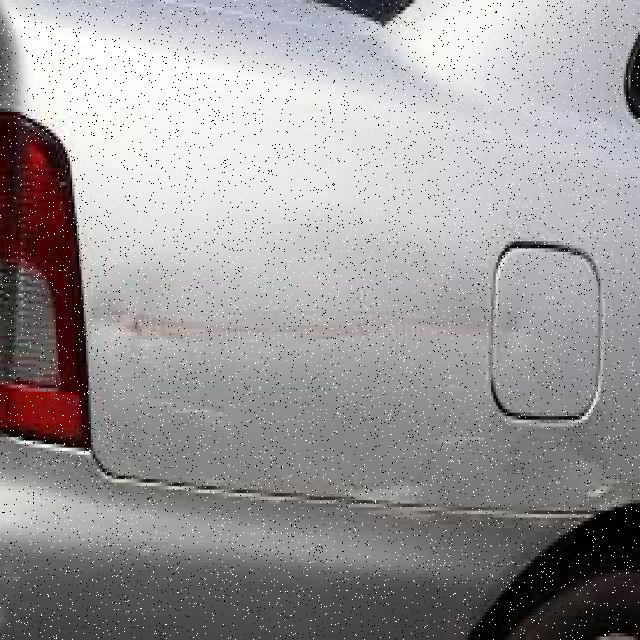quaterpanel-dent: (95, 7, 638, 507)
